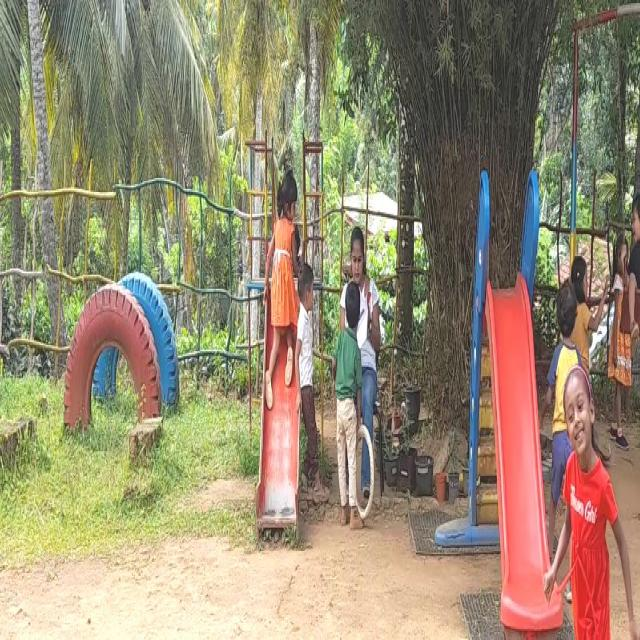child: (555, 385, 622, 640), (260, 145, 296, 397), (293, 250, 321, 484), (341, 290, 361, 522), (627, 181, 640, 354)
